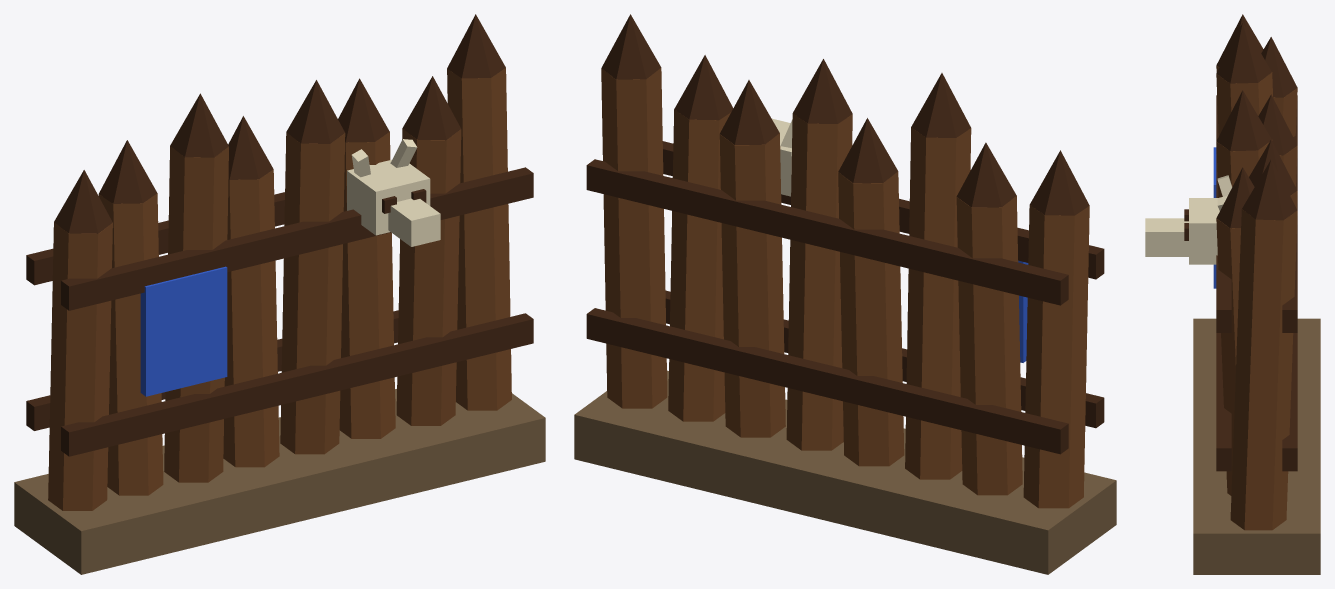
The model's file is WallSegment.glb.
3 views of the same model, side by side, from view 1: azimuth 30°, elevation 25°; view 2: azimuth 150°, elevation 25°; view 3: azimuth 270°, elevation 25° (orthographic). The views are drawn at different scales.
Visible parts, largest first — view 1: WallSegment; view 2: WallSegment; view 3: WallSegment.
Part boxes in pixels (<box>): WallSegment: <box>14,14,545,574</box>; WallSegment: <box>574,14,1116,574</box>; WallSegment: <box>1145,14,1320,574</box>.
Size of the model in its own units: 2 by 1.76 by 0.689.
